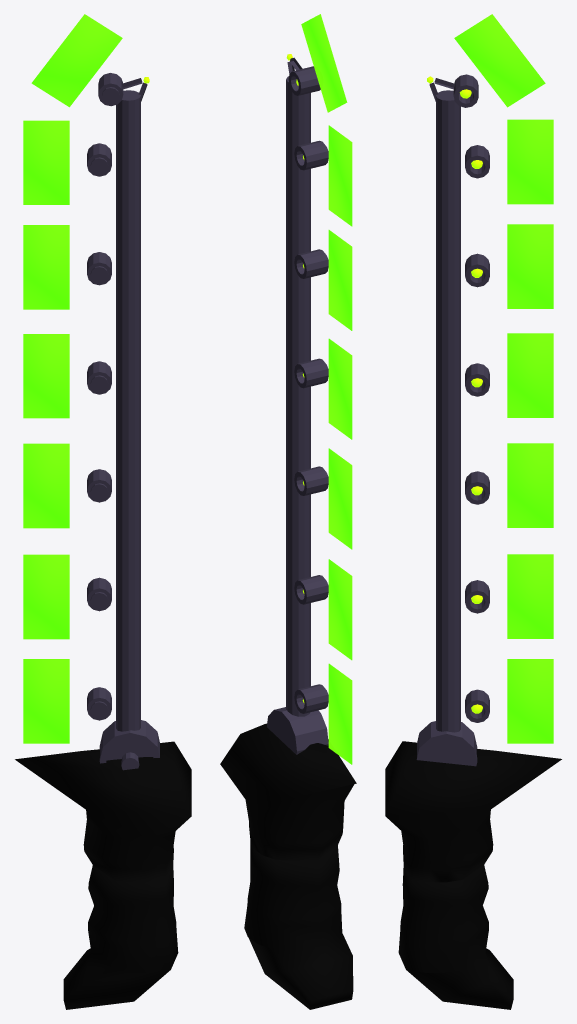
Rendered from VRsword.fbx.
3 renders of one model, left to right at view 1: azimuth 90°, elevation 25°; view 2: azimuth 210°, elevation 25°; view 3: azimuth 270°, elevation 25°, orthographic.
Parts seen in each view (by area): view 1: blades, Handle, stick, emitters; view 2: Handle, stick, blades, emitters; view 3: blades, Handle, stick, emitters, power_sources.
Boxes of the visible parts, x1=… form: blades: x1=23, y1=14, x2=122, y2=743; Handle: x1=15, y1=741, x2=191, y2=1009; stick: x1=98, y1=73, x2=159, y2=770; emitters: x1=87, y1=143, x2=111, y2=720; Handle: x1=220, y1=723, x2=356, y2=1009; stick: x1=267, y1=57, x2=328, y2=754; blades: x1=301, y1=14, x2=352, y2=764; emitters: x1=294, y1=140, x2=328, y2=713; blades: x1=454, y1=14, x2=553, y2=743; Handle: x1=385, y1=741, x2=561, y2=1009; stick: x1=416, y1=74, x2=478, y2=766; emitters: x1=465, y1=145, x2=489, y2=722; power_sources: x1=427, y1=76, x2=482, y2=713.
Bounding box in the file's own units: 61.17 × 596 × 97.06.
